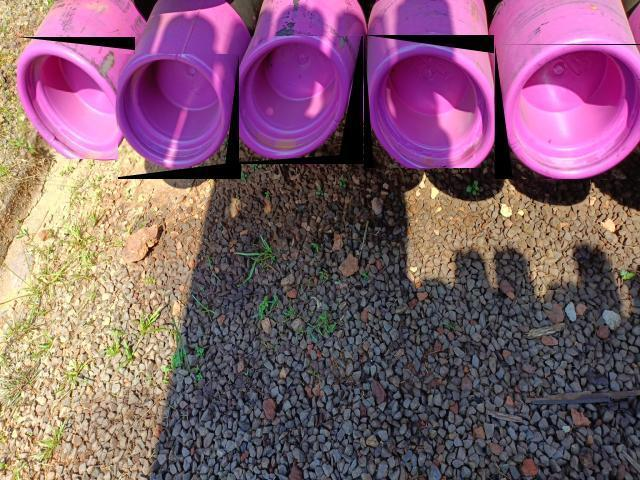pipe: (495, 44, 640, 179), (364, 35, 494, 168), (239, 36, 363, 164), (118, 54, 241, 179), (17, 38, 135, 160)
